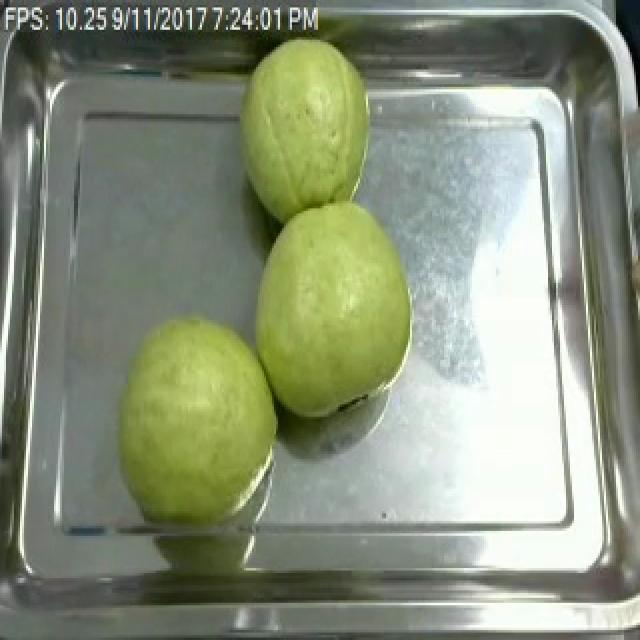Fruit: (242, 196, 420, 427), (108, 305, 288, 531), (230, 25, 382, 226)
